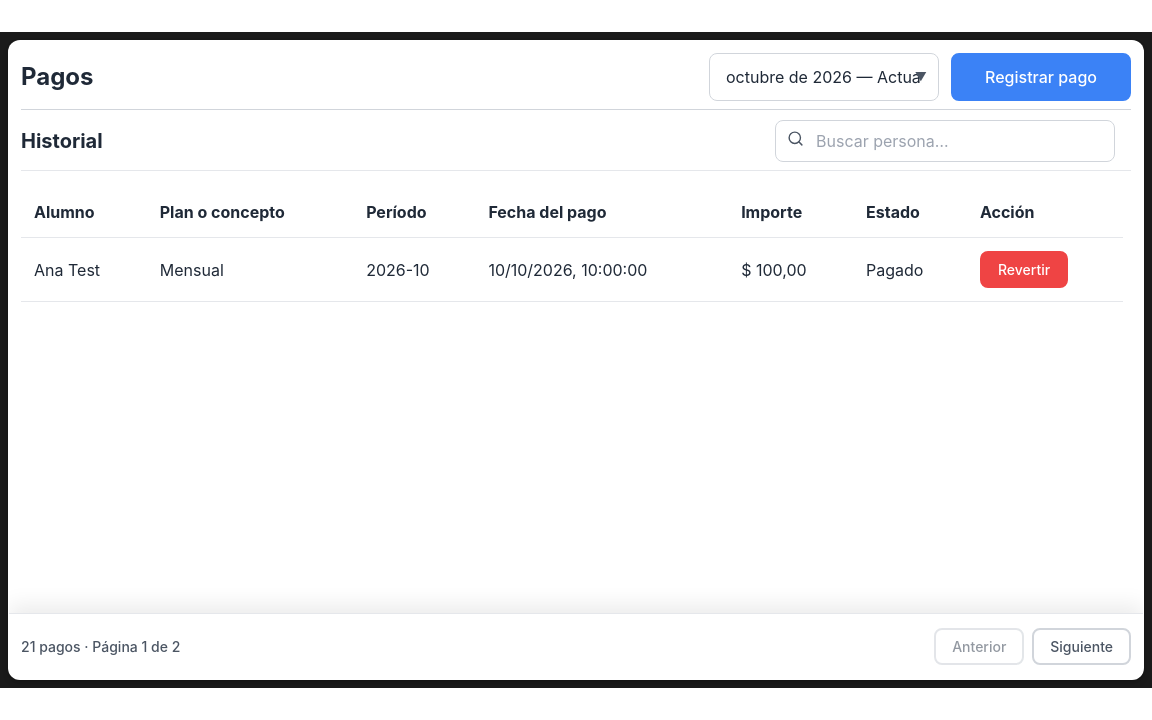
Test: busca por persona, conserva el filtro al paginar y permite limpiarlo
Expected: the text "Ana Test" is shown, left=21, top=238, right=147, bottom=302
Type "Ana" into the field named "Buscar pagos por persona" at (945, 141), box left=775, top=120, right=1115, bottom=162
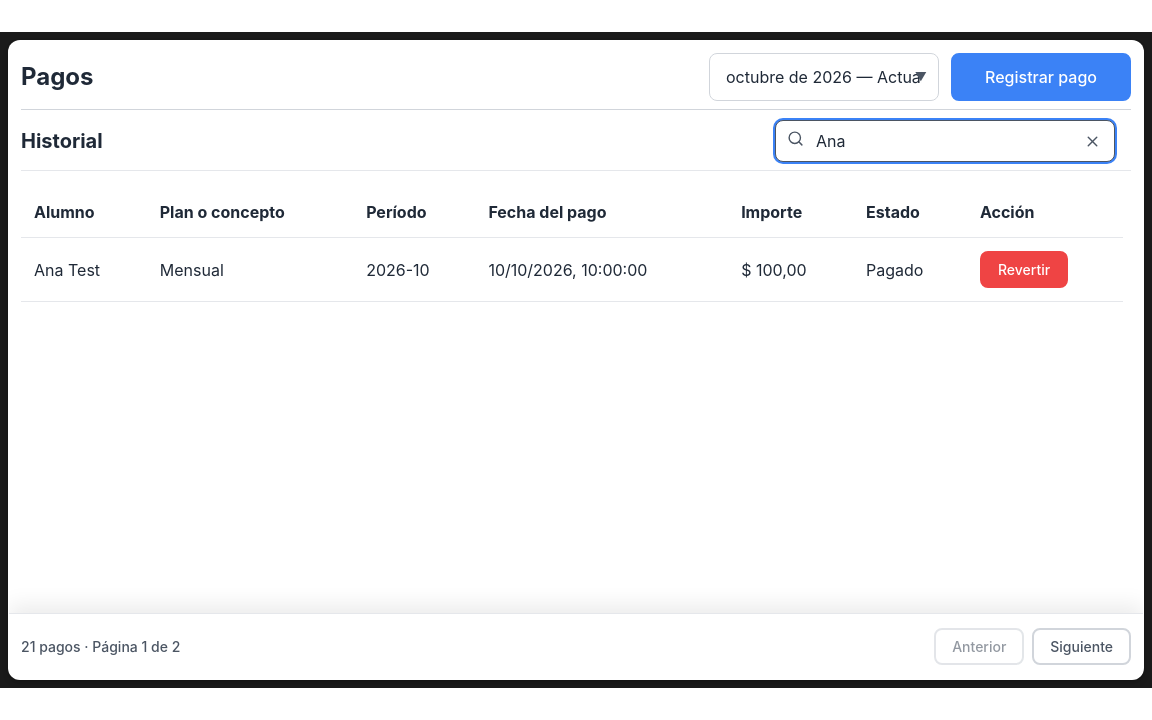
Click the button "Siguiente" at (1082, 646), box left=1032, top=628, right=1131, bottom=665
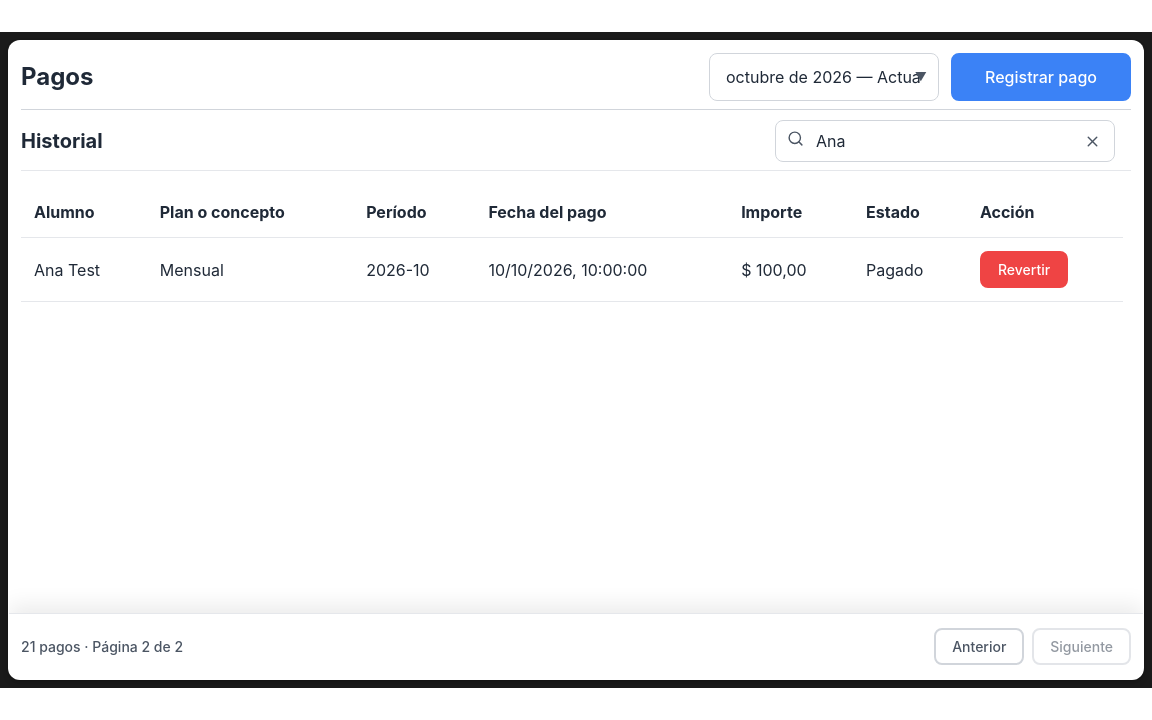
Click the button named "Limpiar búsqueda" at (1092, 141), box left=1077, top=126, right=1107, bottom=156
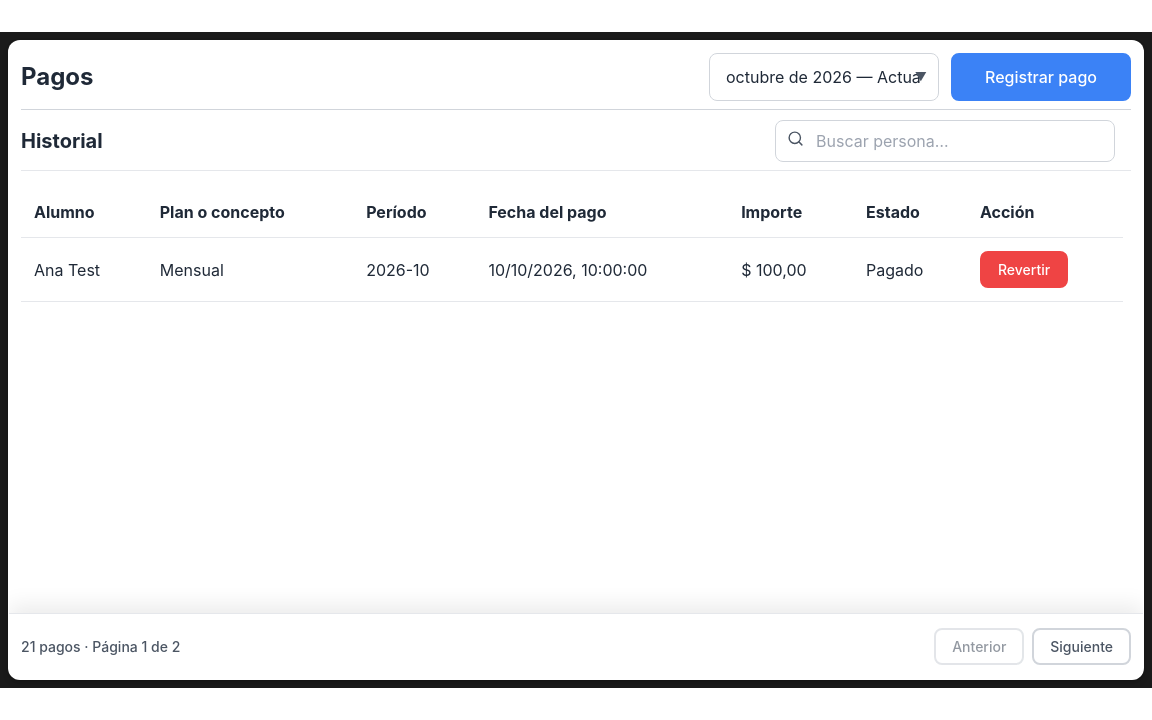
Result: the field named "Buscar pagos por persona" is empty at left=775, top=120, right=1115, bottom=162
